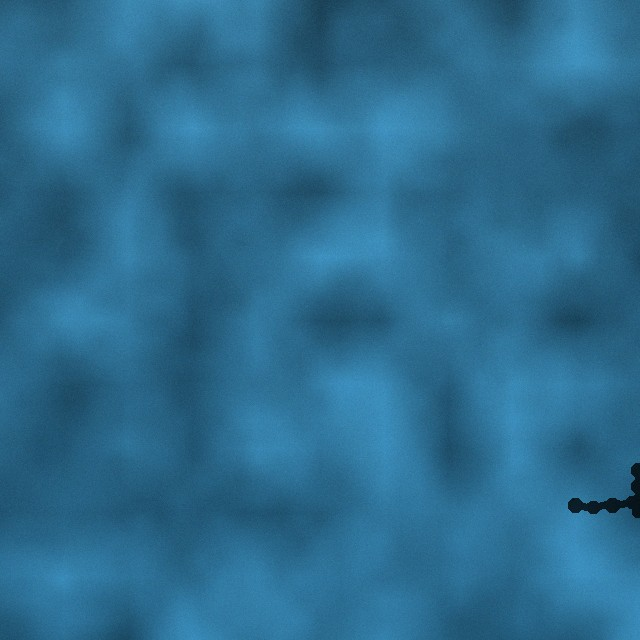crack: (568, 462, 639, 523)
